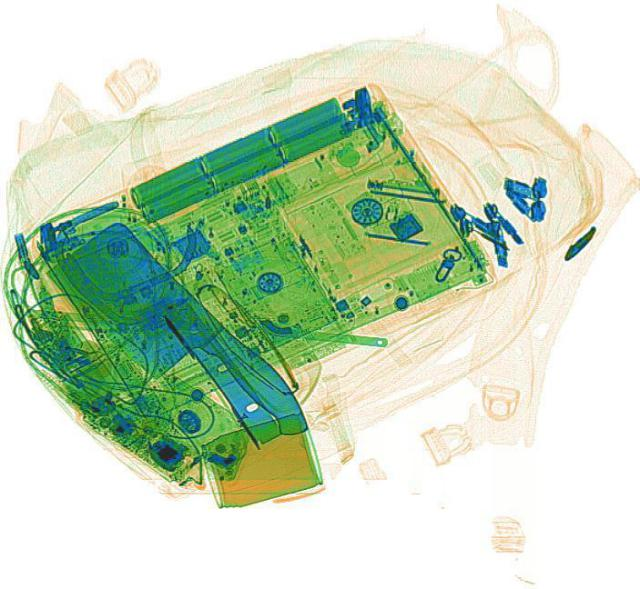Knife: (42, 214, 320, 473)
